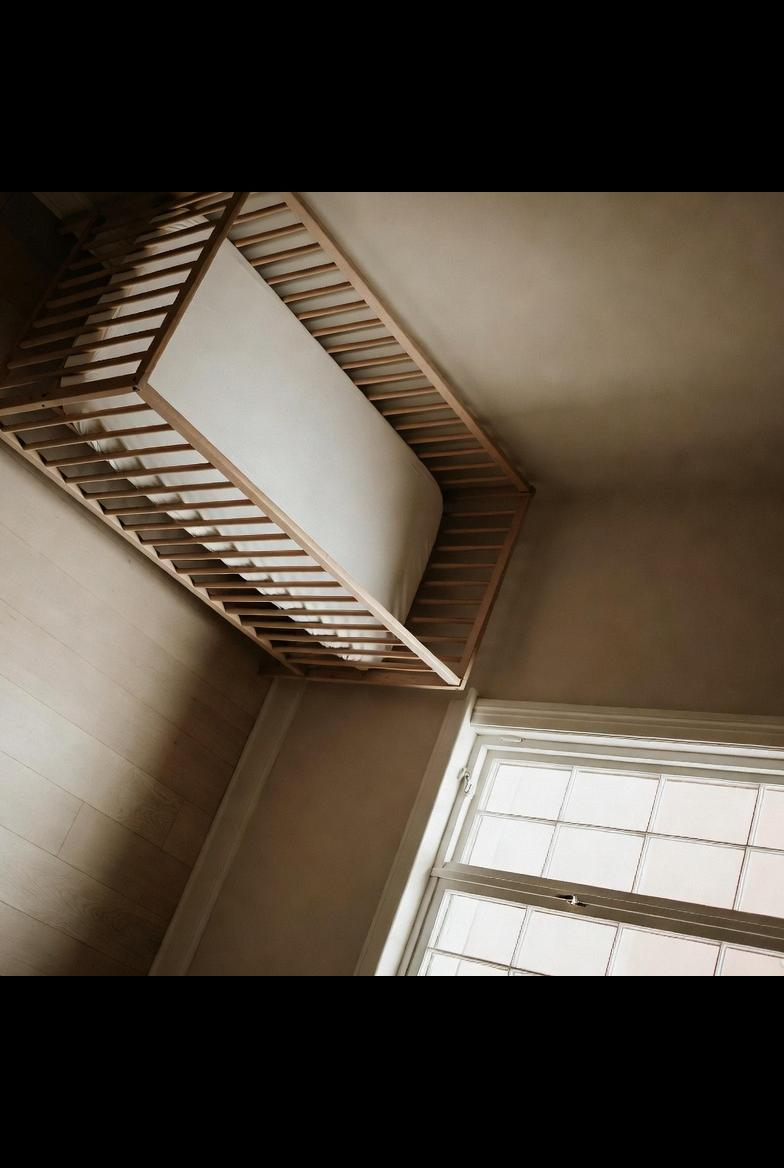crib: (0, 192, 542, 722)
